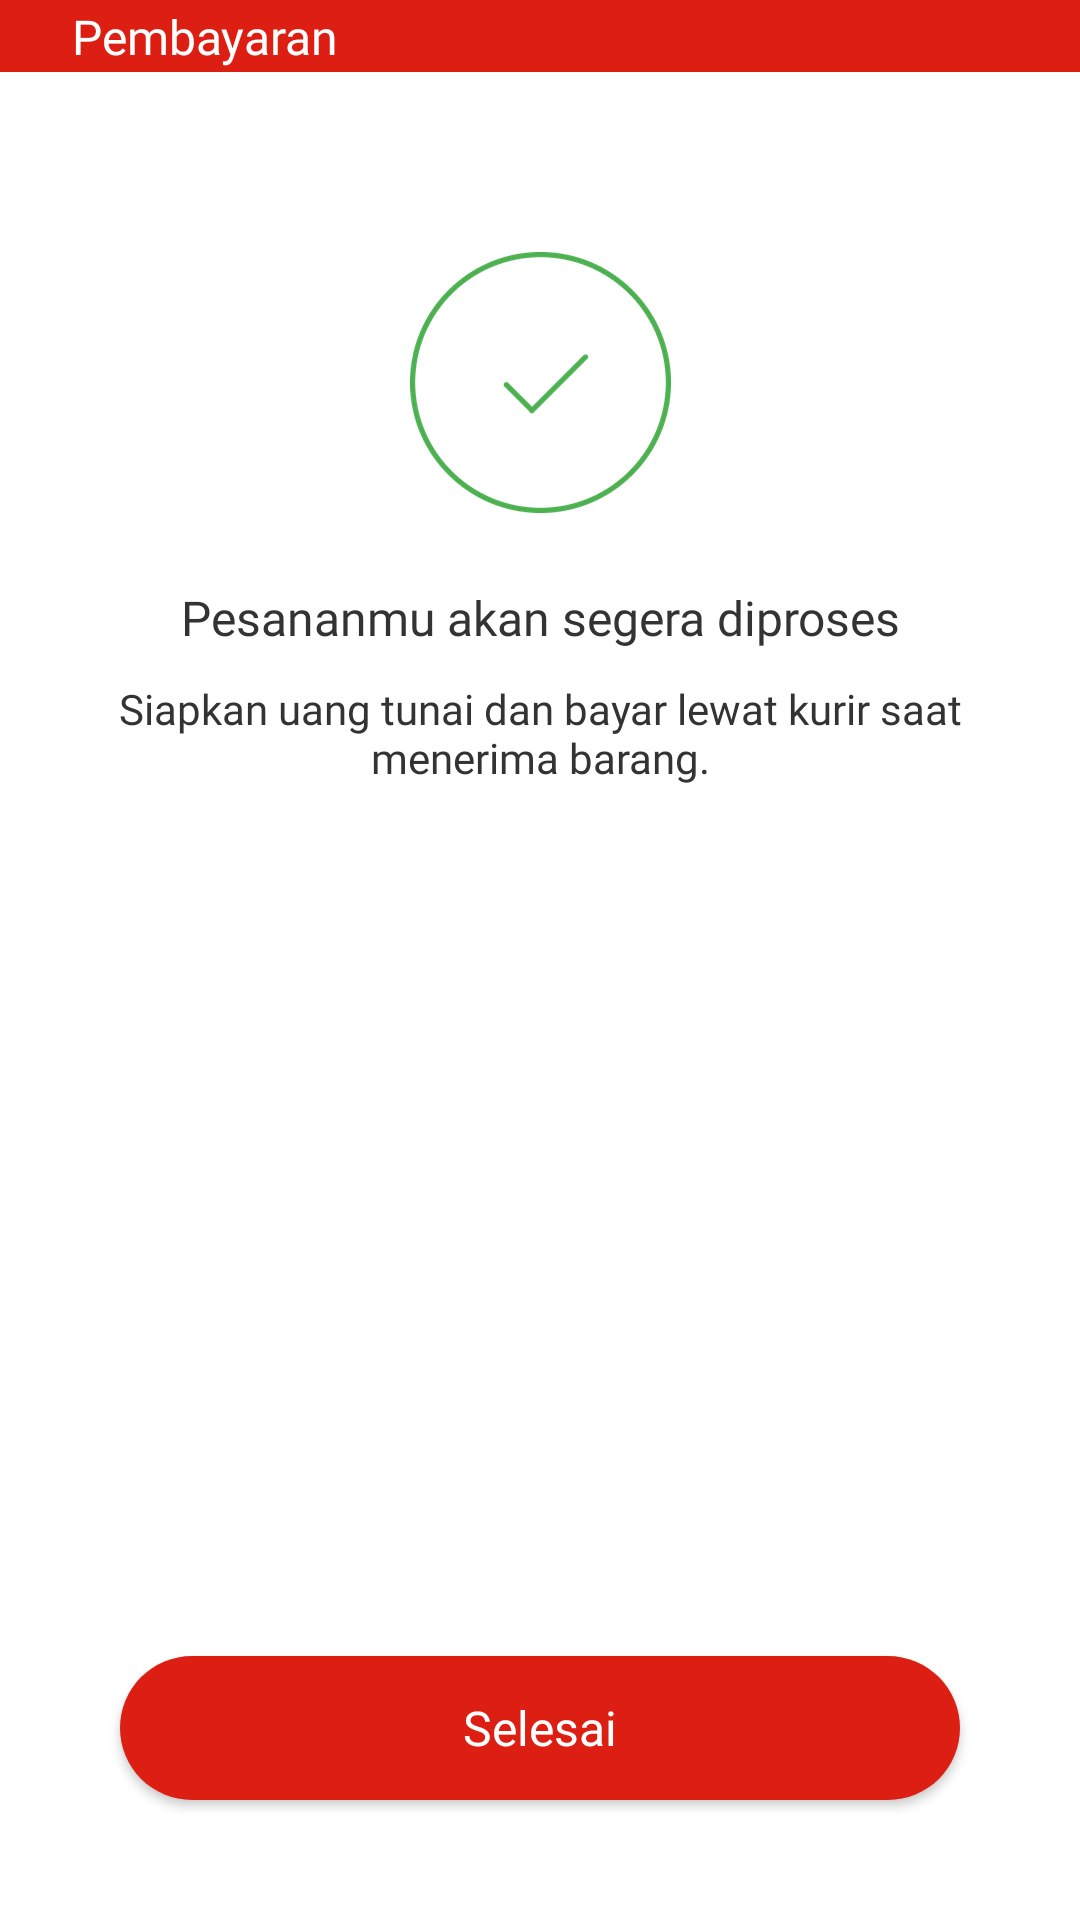

Screen size 1080px×1920px. Icon name, then its center in pixels as [x,y]:
success: [540,382]
